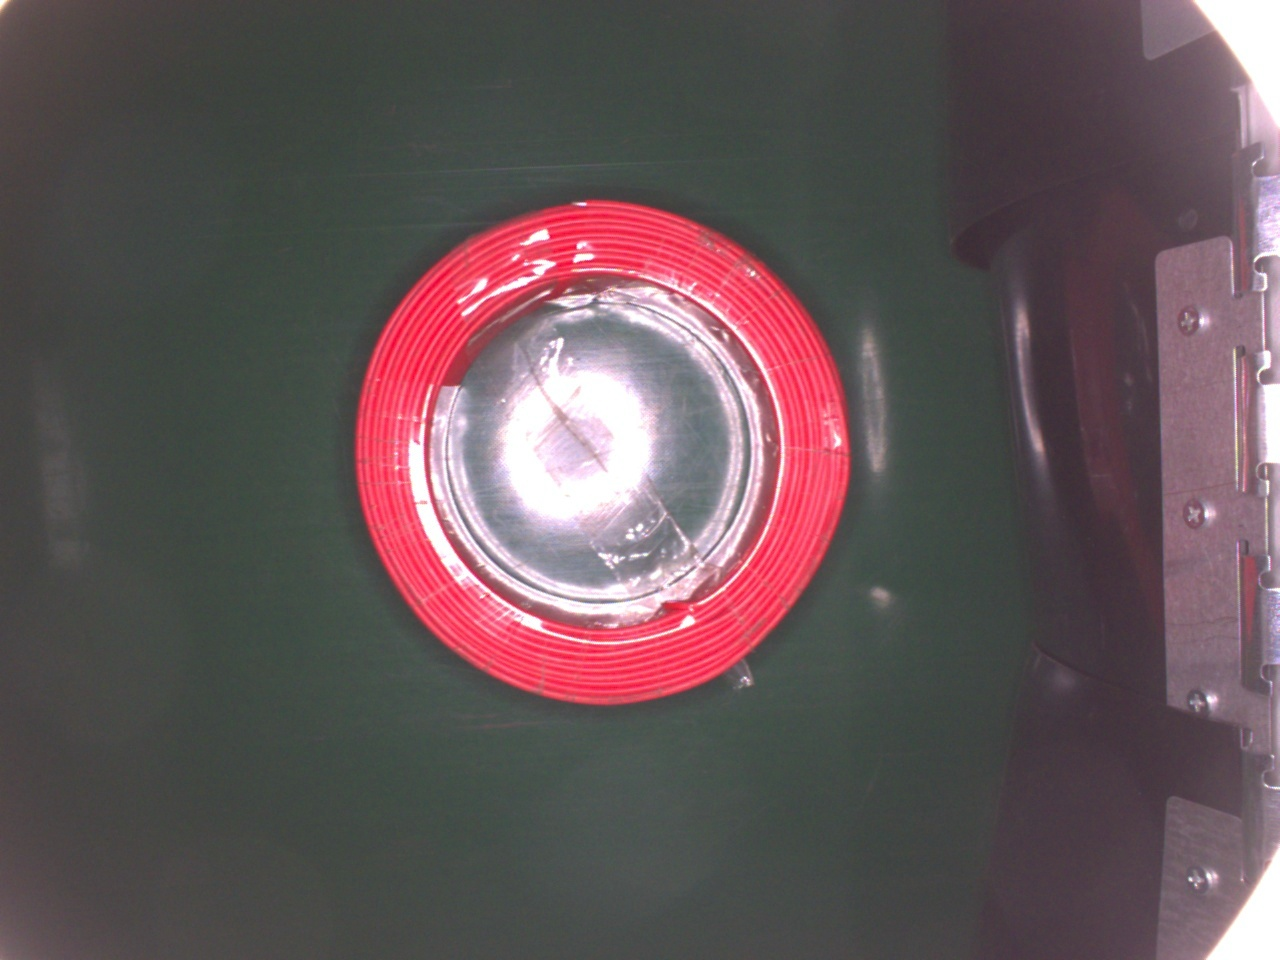red: (353, 198, 853, 708)
